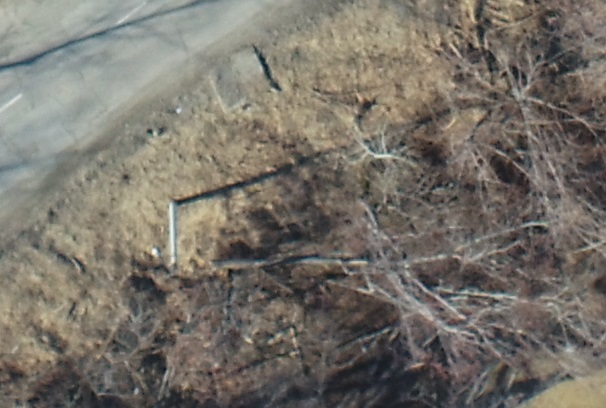opora: (149, 175, 271, 276)
